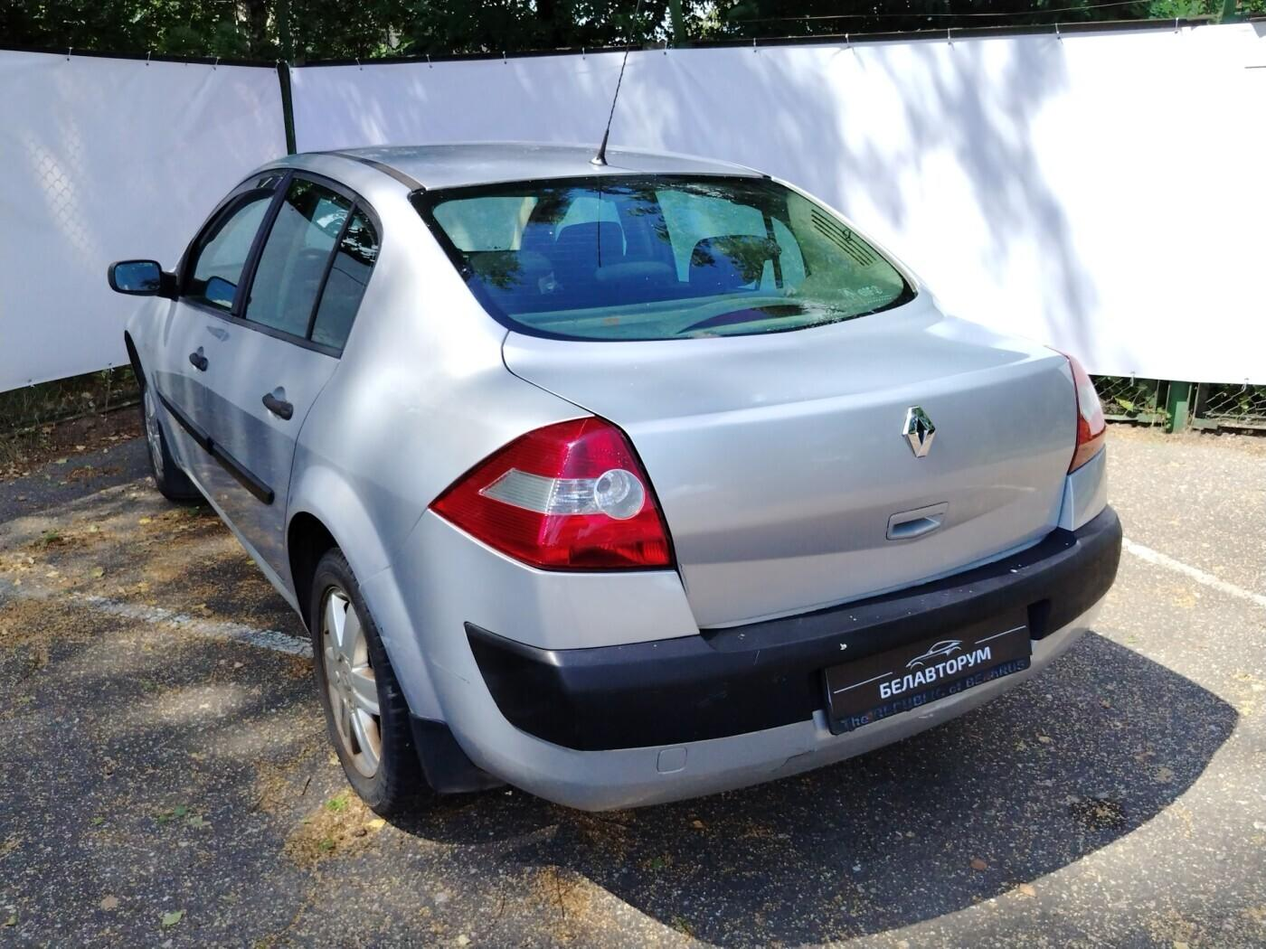Megane_2002-2006: (110, 142, 1126, 834)
